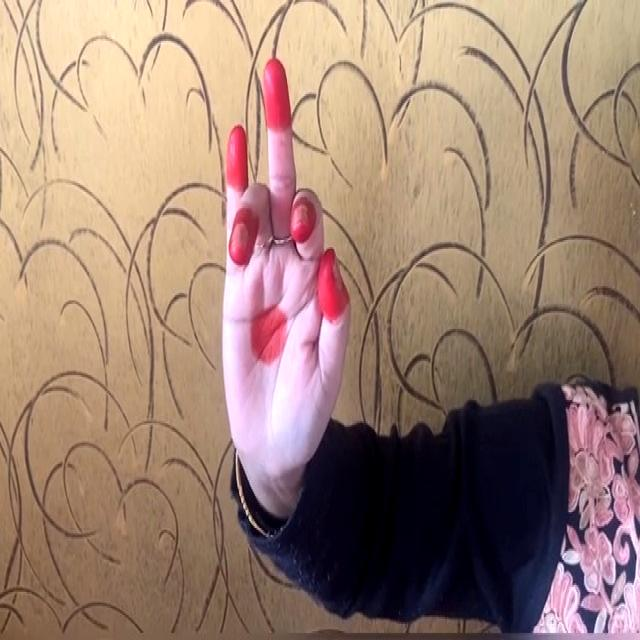Shukatunda: (195, 41, 366, 491)
